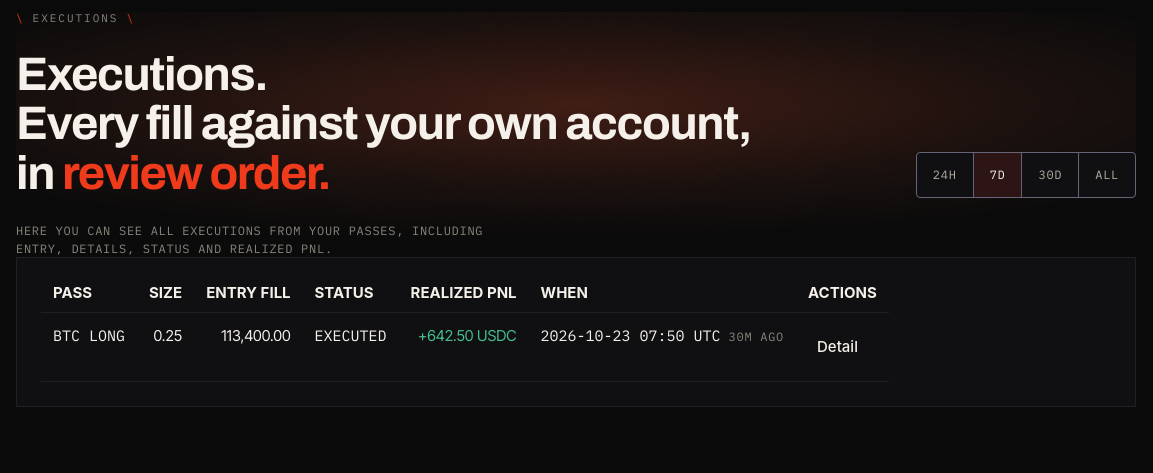
Test case: Executions (§10.9) › hides row detail until expanded, then reveals order id and Pass version
The width and height of the screenshot is (1153, 473).
expect the text "hl-order-99881" is not shown: met
Click the button "Detail". click: coordinates (837, 347)
box: top-left (808, 325), bottom-right (867, 369)
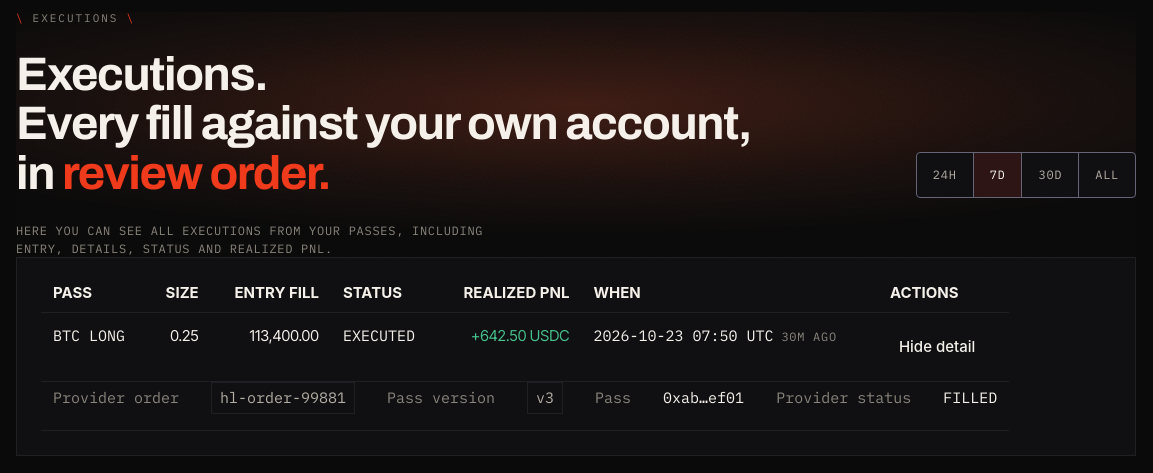
expect the text "hl-order-99881" is shown: met, box top-left (211, 382), bottom-right (355, 414)
expect the text "v3" is shown: met, box top-left (527, 382), bottom-right (563, 414)
expect the button "Hide detail" is expanded: met, box top-left (890, 325), bottom-right (984, 369)
